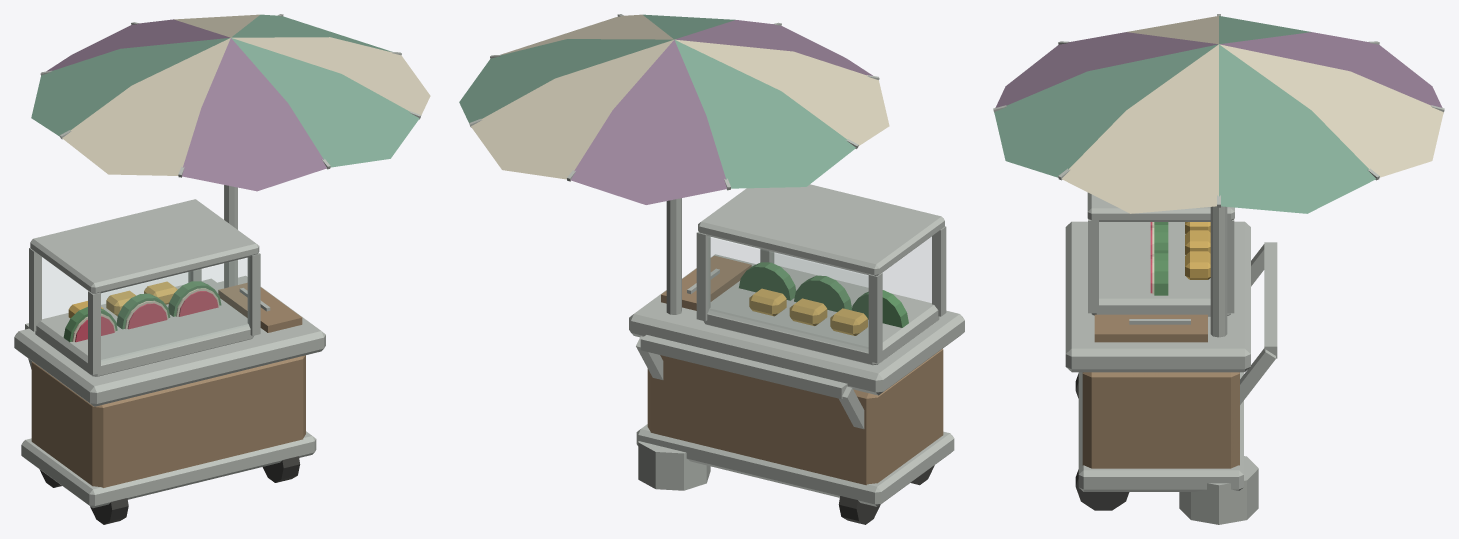
File: fruit-cart.glb
3 renders of one model, left to right at view 1: azimuth 30°, elevation 25°; view 2: azimuth 150°, elevation 25°; view 3: azimuth 270°, elevation 25°, orthographic. The views are drawn at different scales.
Visible parts, largest first — view 1: fruit-cart; view 2: fruit-cart; view 3: fruit-cart.
Boxes of the visible parts, x1,y1,x2,y2 form: fruit-cart: [14, 14, 430, 524]; fruit-cart: [459, 14, 964, 524]; fruit-cart: [993, 14, 1444, 524].
Bounding box in the file's own units: 2.5 × 2.57 × 2.27.
